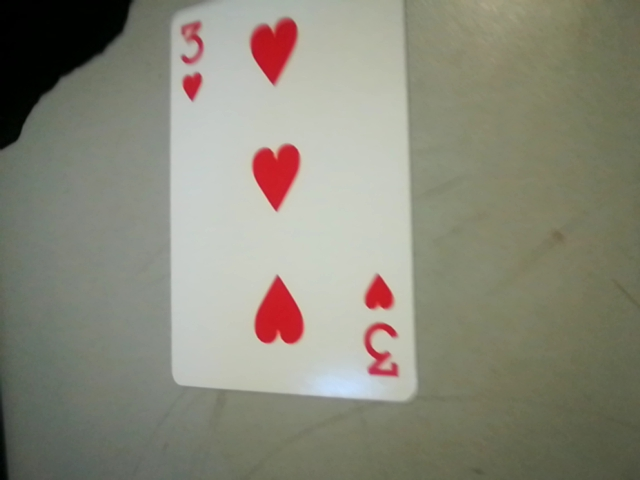hx 3: (350, 265, 415, 390)
